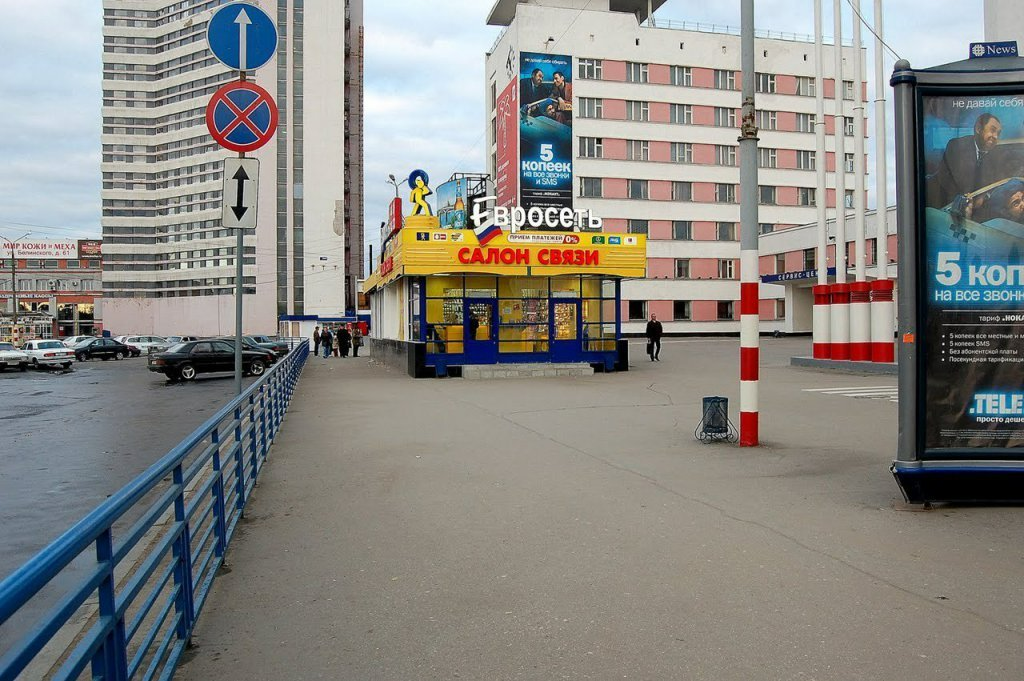sign: (205, 80, 279, 153), (205, 1, 278, 71), (220, 154, 260, 230)
